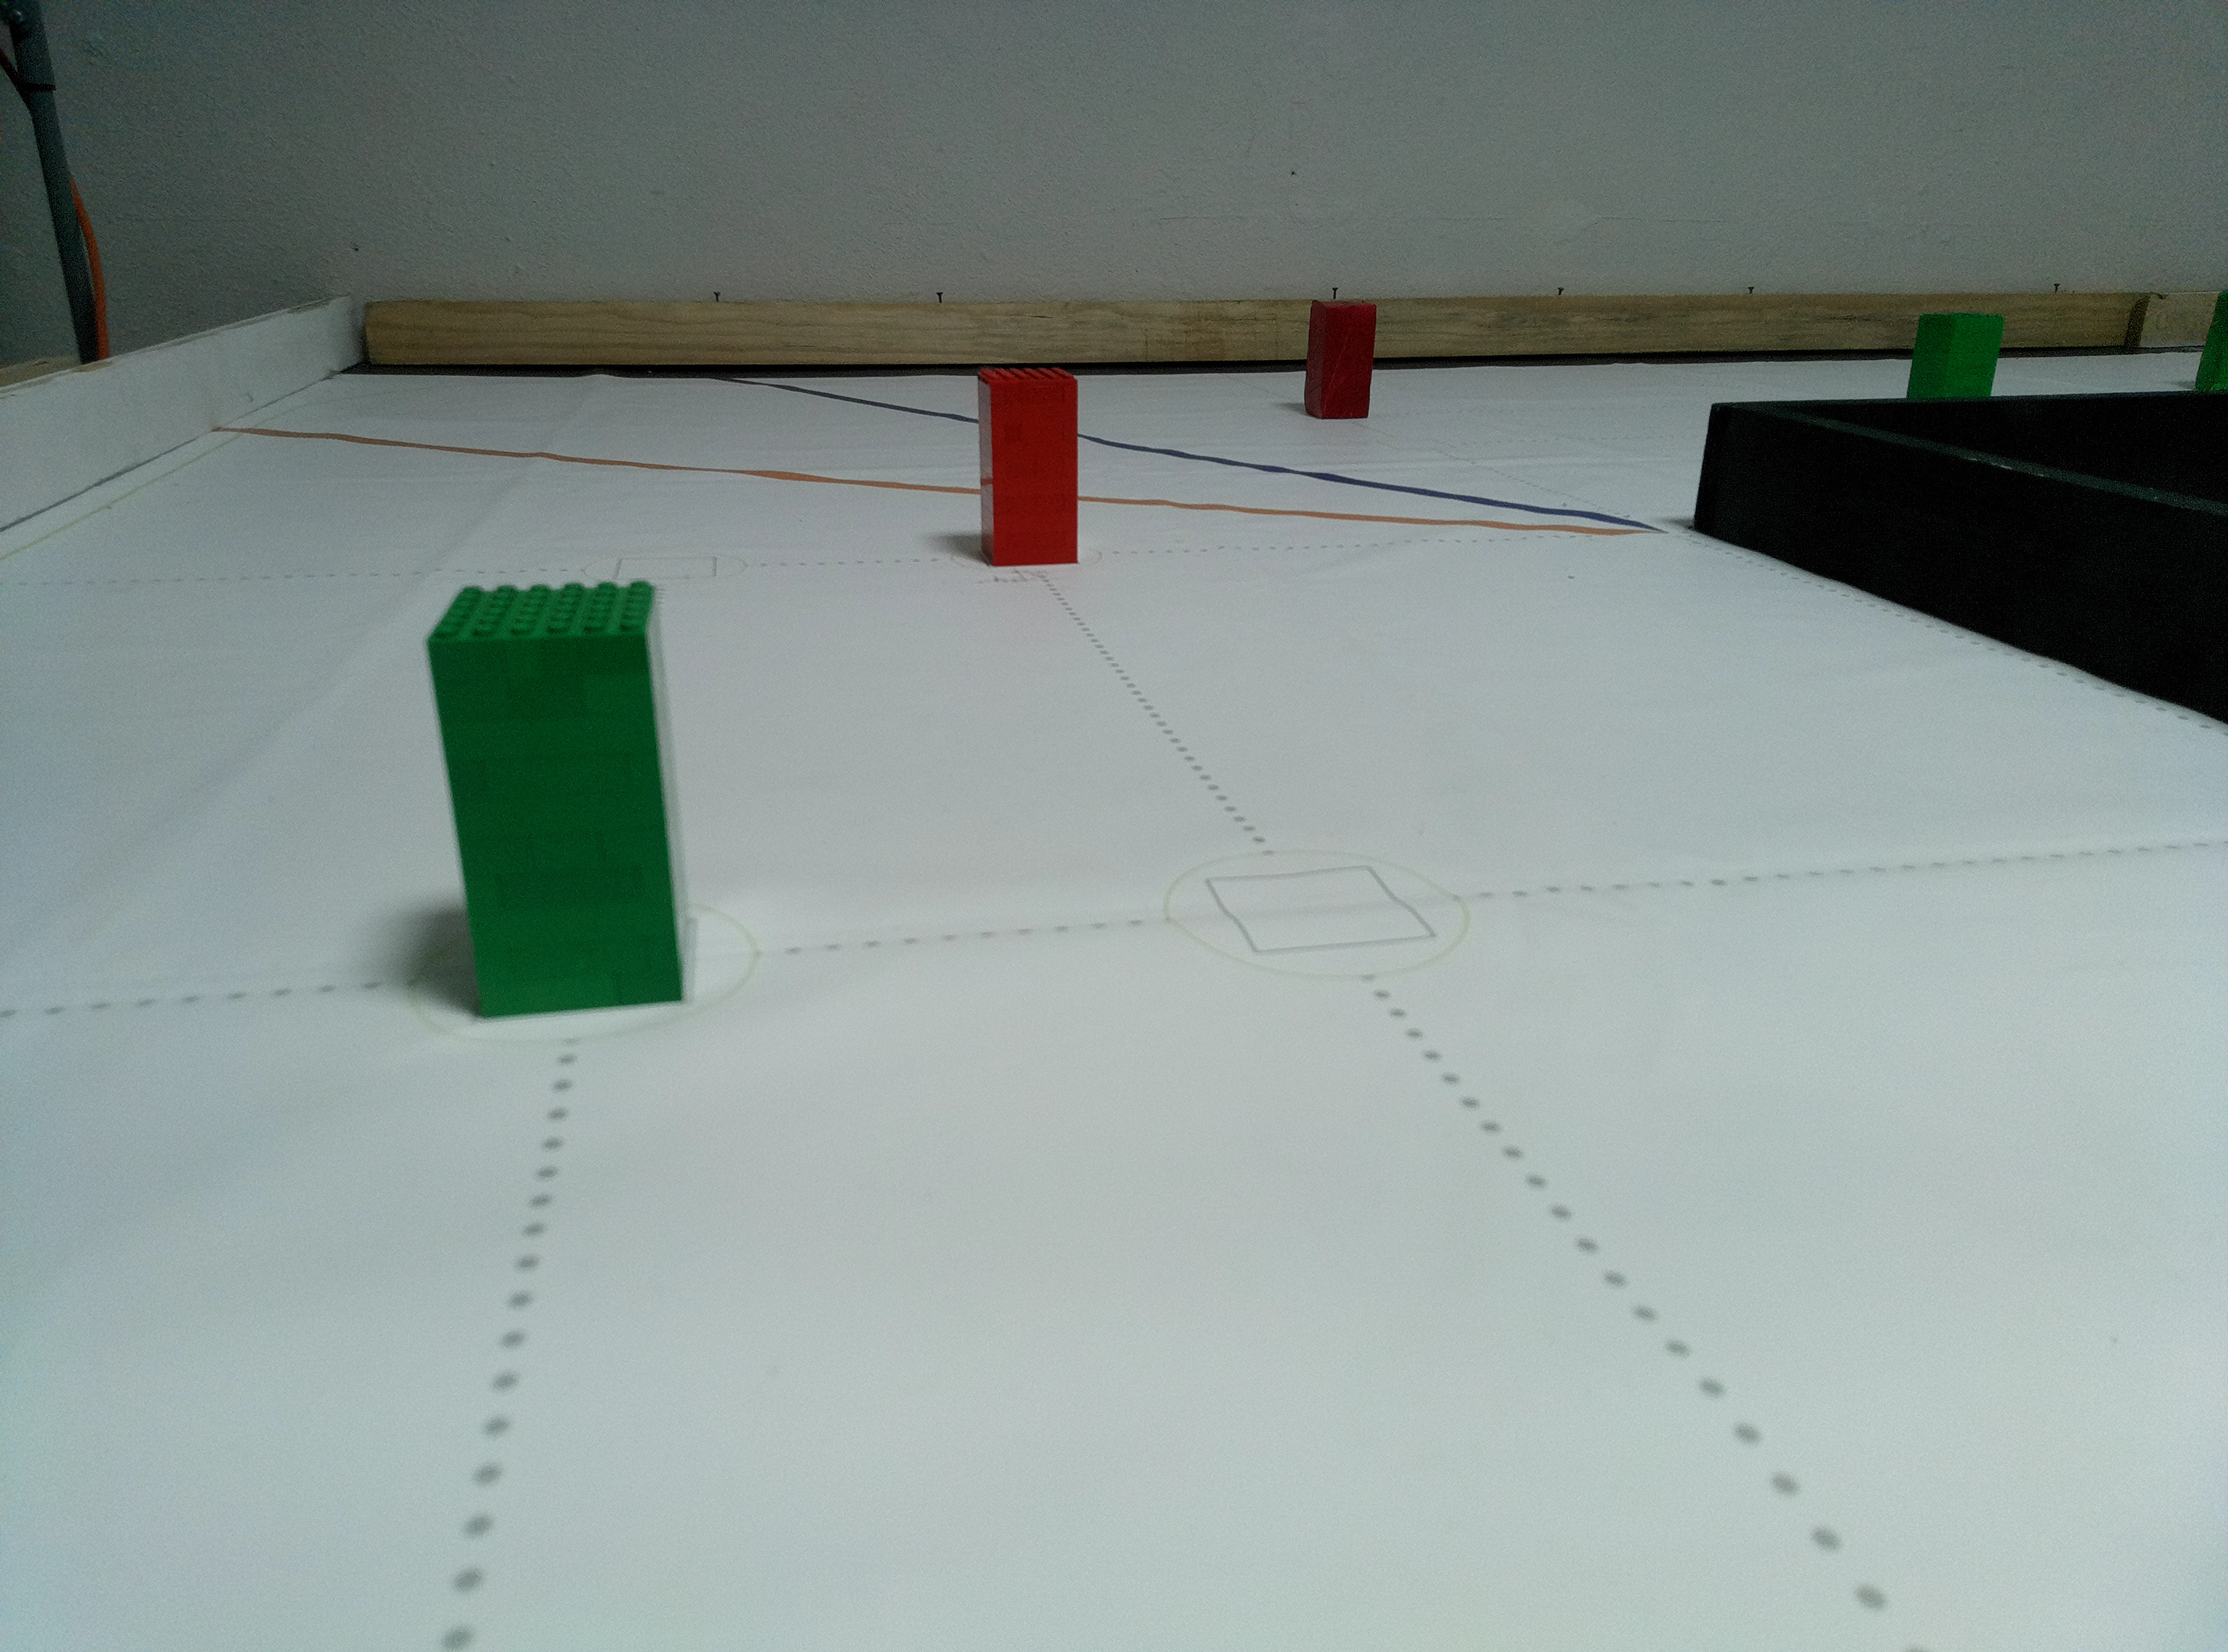greenbox: (422, 580, 691, 1019), (1907, 293, 1994, 394)
redbox: (975, 364, 1083, 567), (1301, 300, 1378, 420)
